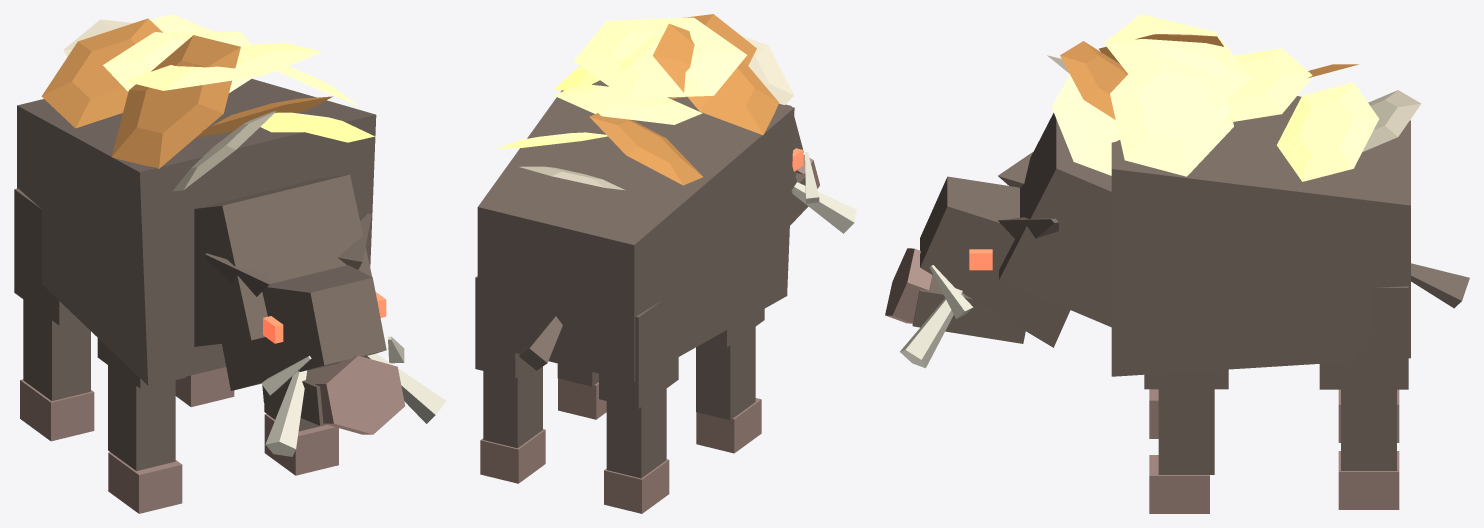
The model's file is spore_boar.glb.
3 views of the same model, side by side, from view 1: azimuth 30°, elevation 25°; view 2: azimuth 150°, elevation 25°; view 3: azimuth 270°, elevation 25° (orthographic). The views are drawn at different scales.
Visible parts, largest first — view 1: Boar_Torso, Boar_Neck, Boar_Head, Boar_Fungus_1, Boar_Fungus_7, Boar_FrontLeg_L, Boar_Snout_Disc, Boar_BackLeg_L, Boar_Fungus_0, Boar_BackThigh_L, Boar_FrontHoof_L, Boar_Fungus_6 (+16 smaller); view 2: Boar_Torso, Boar_Fungus_0, Boar_Fungus_1, Boar_FrontLeg_L, Boar_BackLeg_L, Boar_BackLeg_R, Boar_BackThigh_L, Boar_Fungus_7, Boar_Fungus_6, Boar_BackHoof_R, Boar_BackHoof_L, Boar_FrontHoof_L (+12 smaller); view 3: Boar_Torso, Boar_Neck, Boar_Head, Boar_Fungus_2, Boar_Fungus_0, Boar_Fungus_8, Boar_BackThigh_R, Boar_FrontLeg_R, Boar_BackLeg_R, Boar_Fungus_6, Boar_Fungus_5, Boar_Fungus_3 (+11 smaller).
Boxes of the visible parts, x1,y1,x2,y2 form: Boar_Torso: (17, 79, 376, 385); Boar_Neck: (194, 174, 371, 346); Boar_Head: (222, 265, 386, 390); Boar_Fungus_1: (111, 35, 240, 168); Boar_Fungus_7: (41, 18, 162, 128); Boar_FrontLeg_L: (108, 365, 175, 470); Boar_Snout_Disc: (315, 355, 405, 434); Boar_BackLeg_L: (23, 299, 90, 400); Boar_Fungus_0: (126, 42, 322, 90); Boar_BackThigh_L: (14, 188, 79, 325); Boar_FrontHoof_L: (108, 452, 182, 513); Boar_Fungus_6: (103, 31, 253, 92); Boar_Torso: (477, 80, 794, 381); Boar_Fungus_0: (573, 17, 746, 98); Boar_Fungus_1: (652, 23, 779, 135); Boar_FrontLeg_L: (696, 327, 755, 420); Boar_BackLeg_L: (606, 389, 666, 478); Boar_BackLeg_R: (483, 366, 542, 448); Boar_BackThigh_L: (599, 300, 678, 408); Boar_Fungus_7: (589, 113, 702, 185); Boar_Fungus_6: (553, 84, 702, 124); Boar_BackHoof_R: (480, 429, 545, 483); Boar_BackHoof_L: (604, 459, 669, 513); Boar_FrontHoof_L: (696, 398, 761, 453); Boar_Torso: (1111, 96, 1410, 376); Boar_Neck: (999, 113, 1111, 327); Boar_Head: (920, 176, 1070, 347); Boar_Fungus_2: (1110, 43, 1233, 176); Boar_Fungus_0: (1104, 14, 1251, 108); Boar_Fungus_8: (1276, 82, 1378, 181); Boar_BackThigh_R: (1319, 286, 1408, 389); Boar_FrontLeg_R: (1158, 389, 1214, 474); Boar_BackLeg_R: (1341, 389, 1396, 470); Boar_Fungus_6: (1223, 48, 1312, 123); Boar_Fungus_5: (1051, 75, 1119, 175); Boar_Fungus_3: (1060, 41, 1127, 119).
Bounding box in the file's own units: 1.15 × 2.04 × 2.5.
